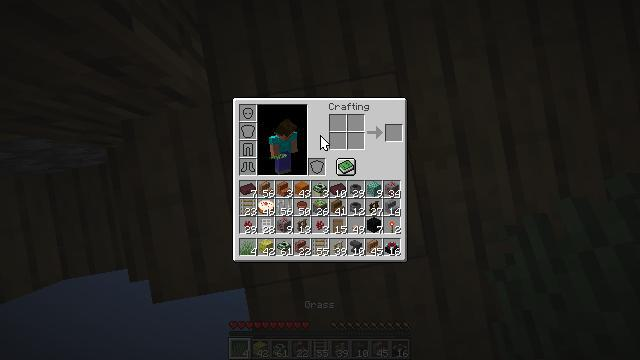cursor: (135, 320, 151, 330)
